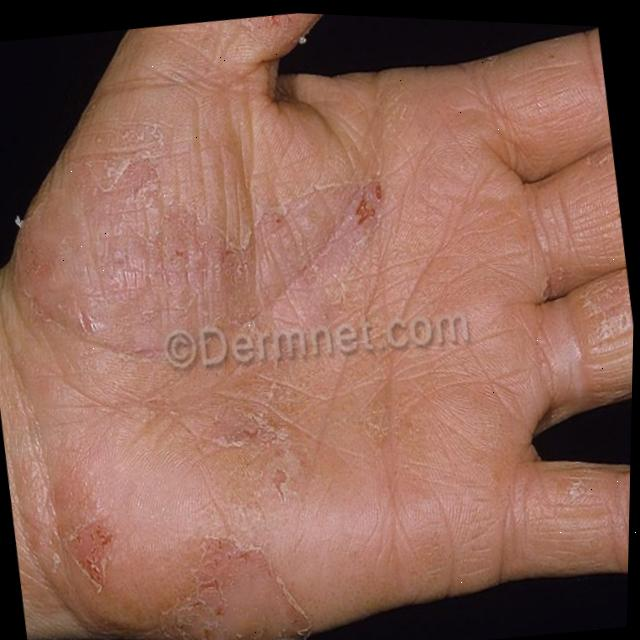Eczema: (34, 80, 440, 640)
